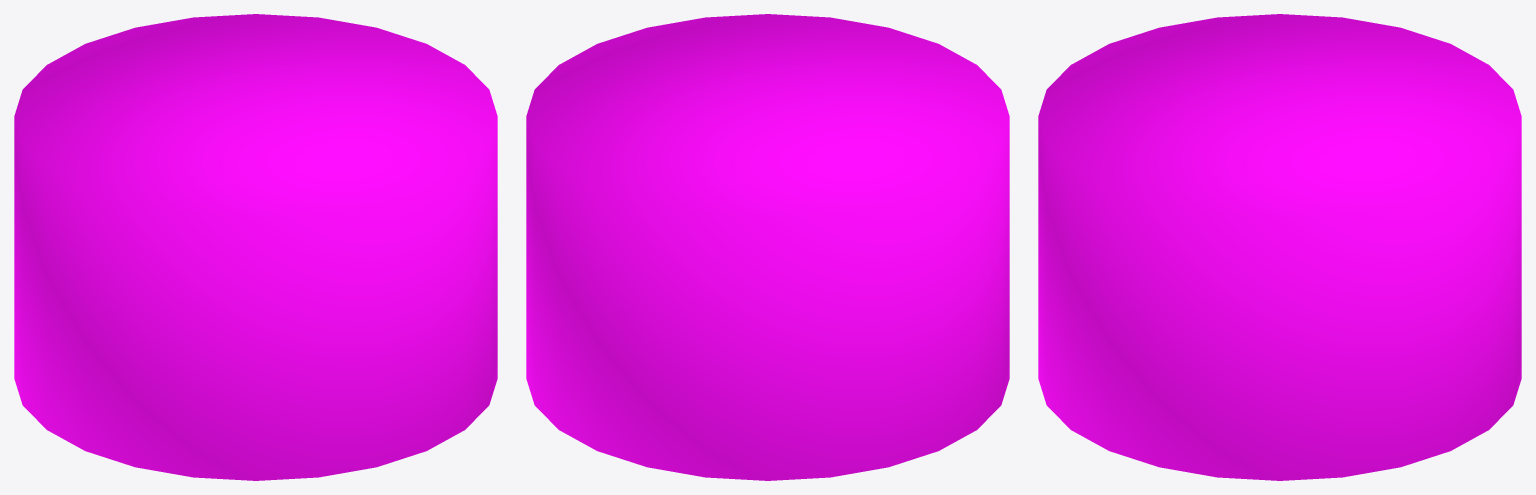
File: fountain-collision.glb
3 renders of one model, left to right at view 1: azimuth 30°, elevation 25°; view 2: azimuth 150°, elevation 25°; view 3: azimuth 270°, elevation 25°, orthographic.
Parts seen in each view (by area): view 1: fountain-collision; view 2: fountain-collision; view 3: fountain-collision.
Boxes of the visible parts, bbox=[...] form: fountain-collision: bbox=[14, 14, 497, 480]; fountain-collision: bbox=[526, 14, 1009, 480]; fountain-collision: bbox=[1038, 14, 1521, 480].
Bounding box in the file's own units: 5 × 3 × 5.
